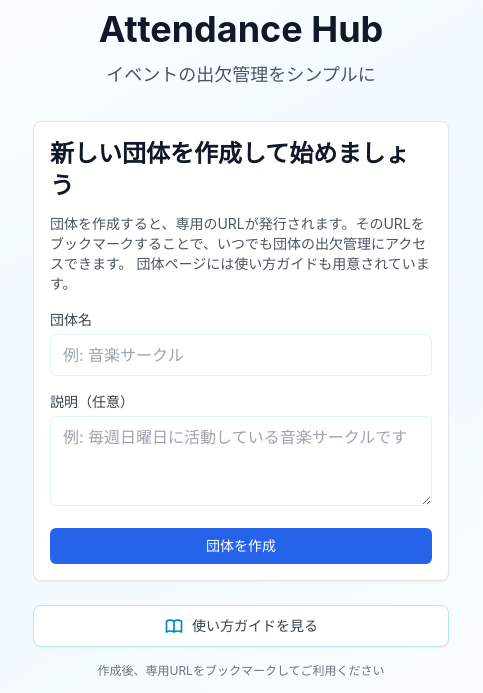
Test: Home (Landing) Page › should display URL for bookmarking after organization creation
#  フォームに入力
In the field labelled "団体名": (241, 355) [50,334,432,376], type "新しい団体"
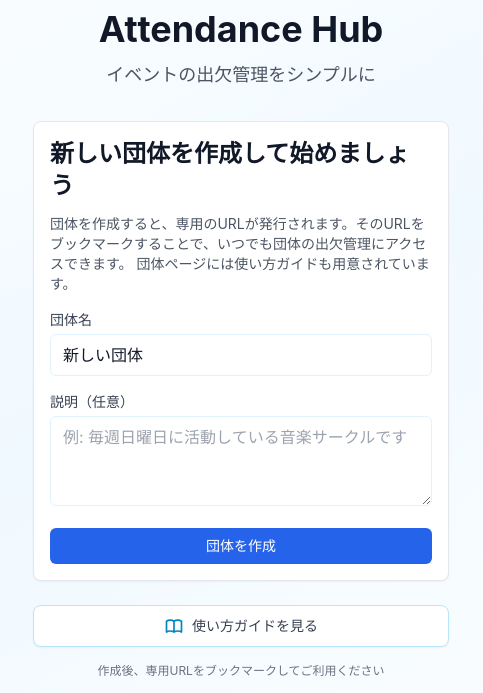
# 作成ボタンをクリック
Click the button "団体を作成": (241, 546) [50,528,432,564]
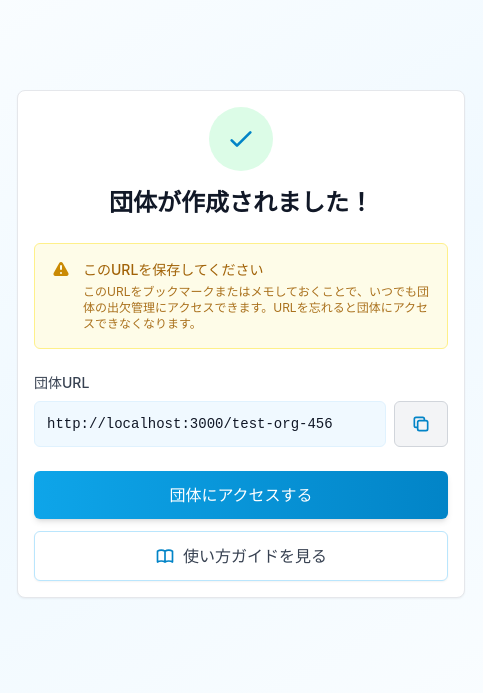
Now the heading "団体が作成されました！" is shown, box [109,188,373,217]
Now the text "http://localhost:3000/test-org-456" is shown, box [47,414,373,434]
